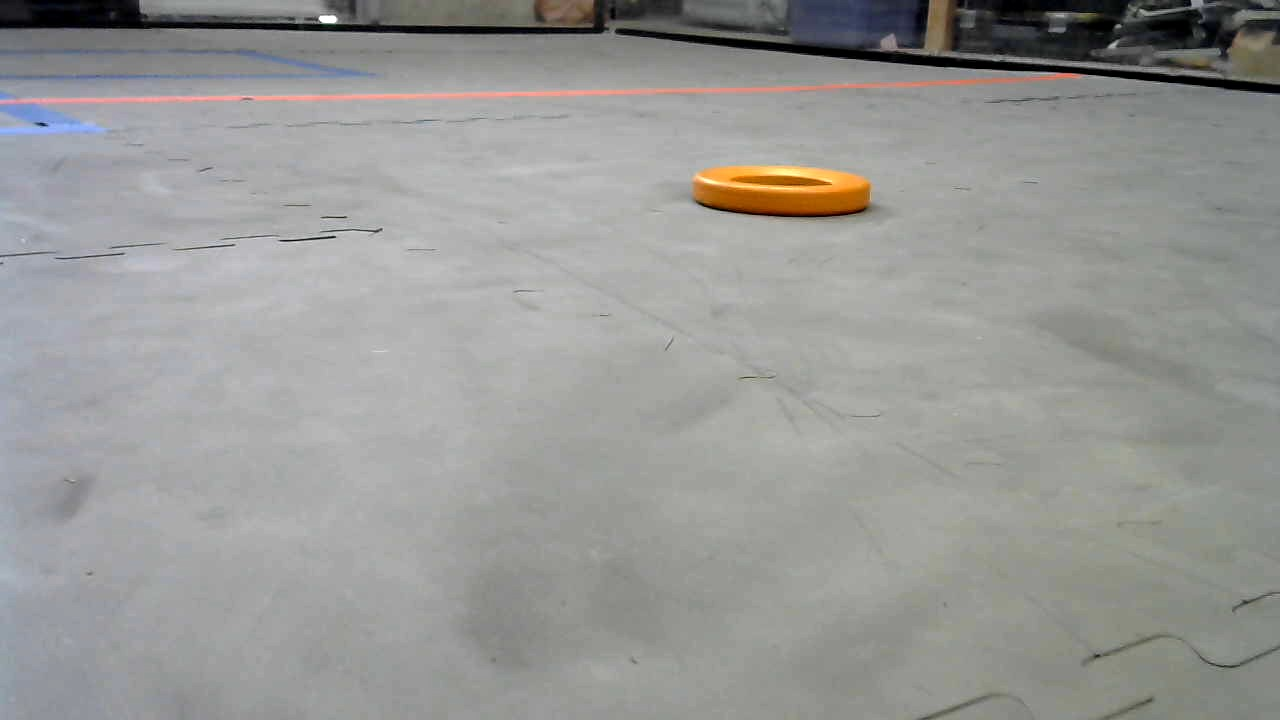OneStack: (691, 161, 870, 216)
